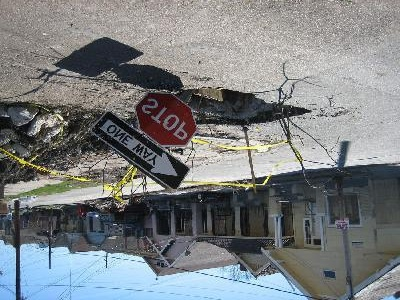pothole: (169, 84, 315, 131)
